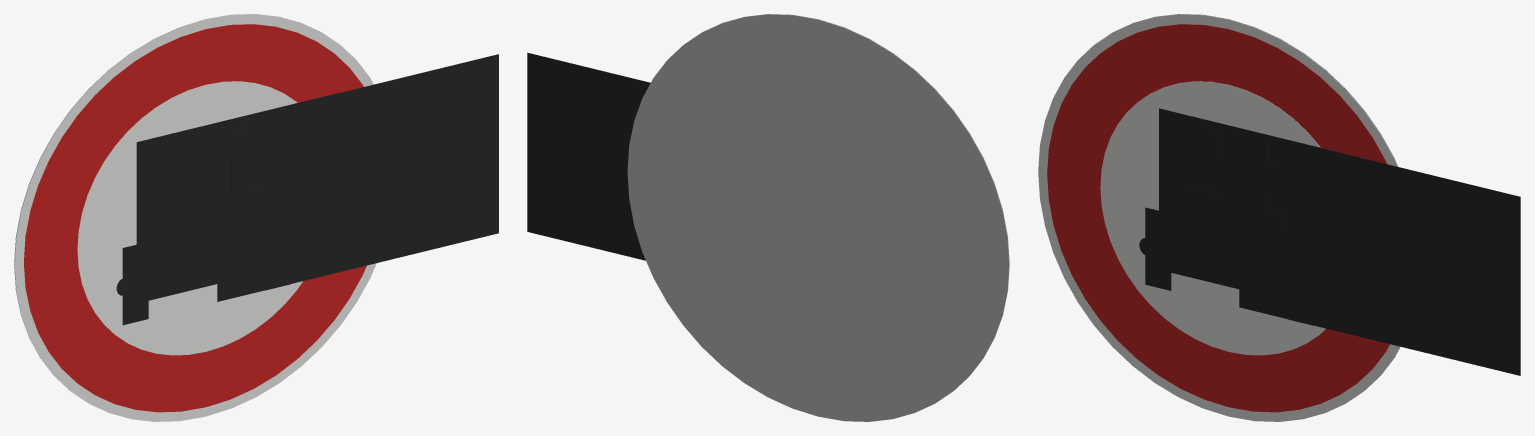
The picture shows the model from 3 angles, left to right: view 1: azimuth 30°, elevation 25°; view 2: azimuth 150°, elevation 25°; view 3: azimuth 330°, elevation 25°; orthographic projection.
Visible parts, largest first — view 1: B13a_p06, B13a_p01, B13a_p02, B13a_p04, B13a_p00, B13a_p05, B13a_p07, B13a_p03, B13a_dos; view 2: B13a_dos, B13a_p06, B13a_p00; view 3: B13a_p06, B13a_p01, B13a_p02, B13a_p04, B13a_p00, B13a_p05, B13a_p07, B13a_p03.
Boxes of the visible parts, x1,y1,x2,y2 form: B13a_p06: (217,54,498,301); B13a_p01: (24,24,366,412); B13a_p02: (77,81,302,355); B13a_p04: (136,93,338,303); B13a_p00: (14,14,376,421); B13a_p05: (142,132,199,229); B13a_p07: (223,126,262,206); B13a_p03: (116,244,289,325); B13a_dos: (14,14,319,390); B13a_dos: (627,14,1009,421); B13a_p06: (527,52,650,260); B13a_p00: (704,14,1009,389); B13a_p06: (1239,128,1520,375); B13a_p01: (1047,24,1389,412); B13a_p02: (1100,81,1325,355); B13a_p04: (1159,108,1361,289); B13a_p00: (1038,14,1399,421); B13a_p05: (1165,115,1221,211); B13a_p07: (1245,146,1284,227); B13a_p03: (1139,207,1312,325).
Size of the model in its own units: 0.85 by 0.6671 by 0.0047.
